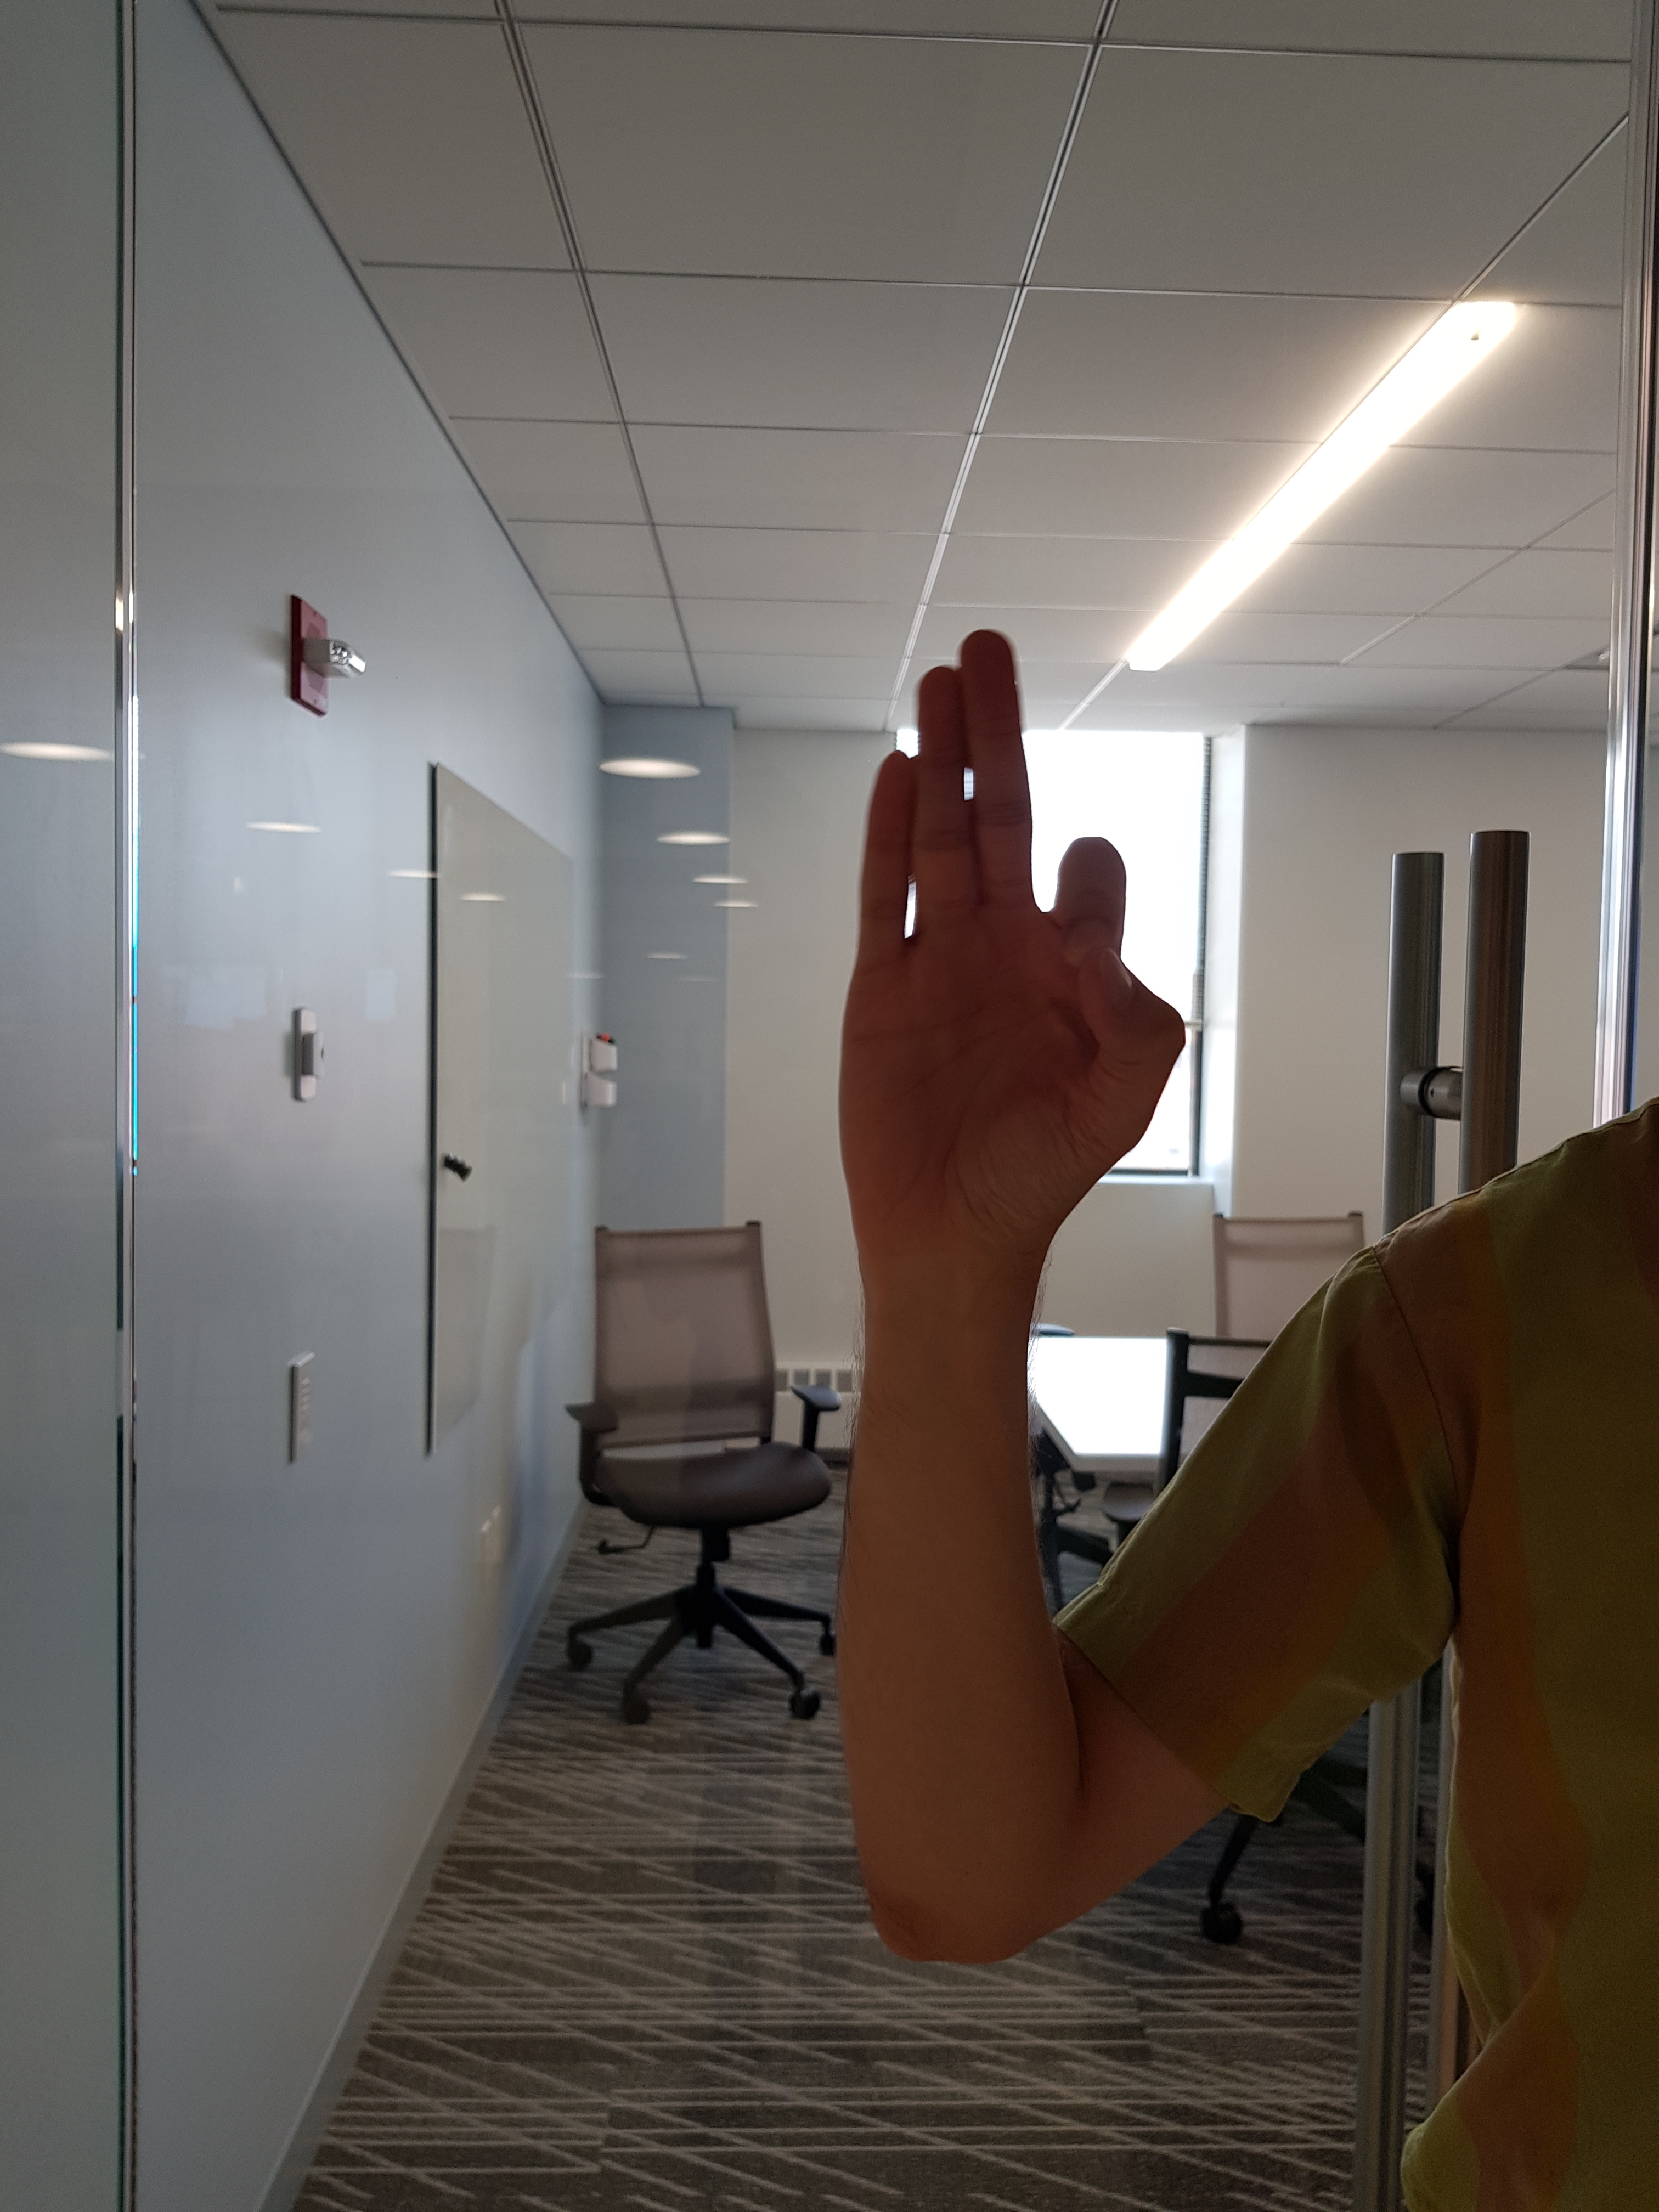f: (817, 608, 1209, 1289)
